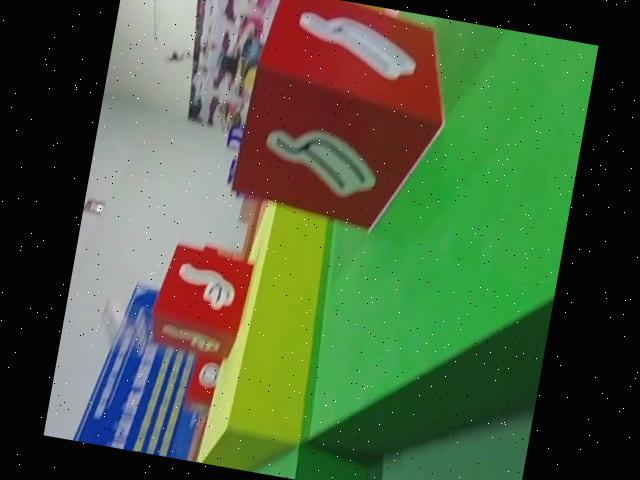R2 Real: (224, 0, 460, 241), (149, 242, 254, 364)
